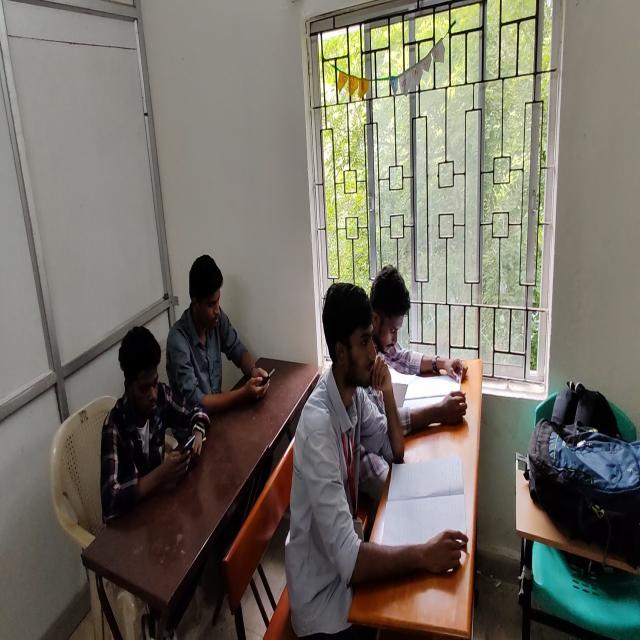reading: (302, 277, 458, 636), (368, 263, 463, 385)
using_mobile: (102, 324, 214, 526), (163, 254, 270, 438)
